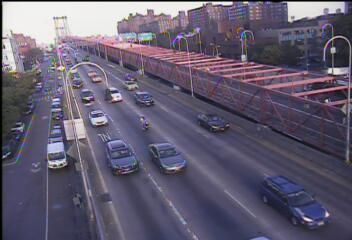neg: (132, 105, 156, 137)
